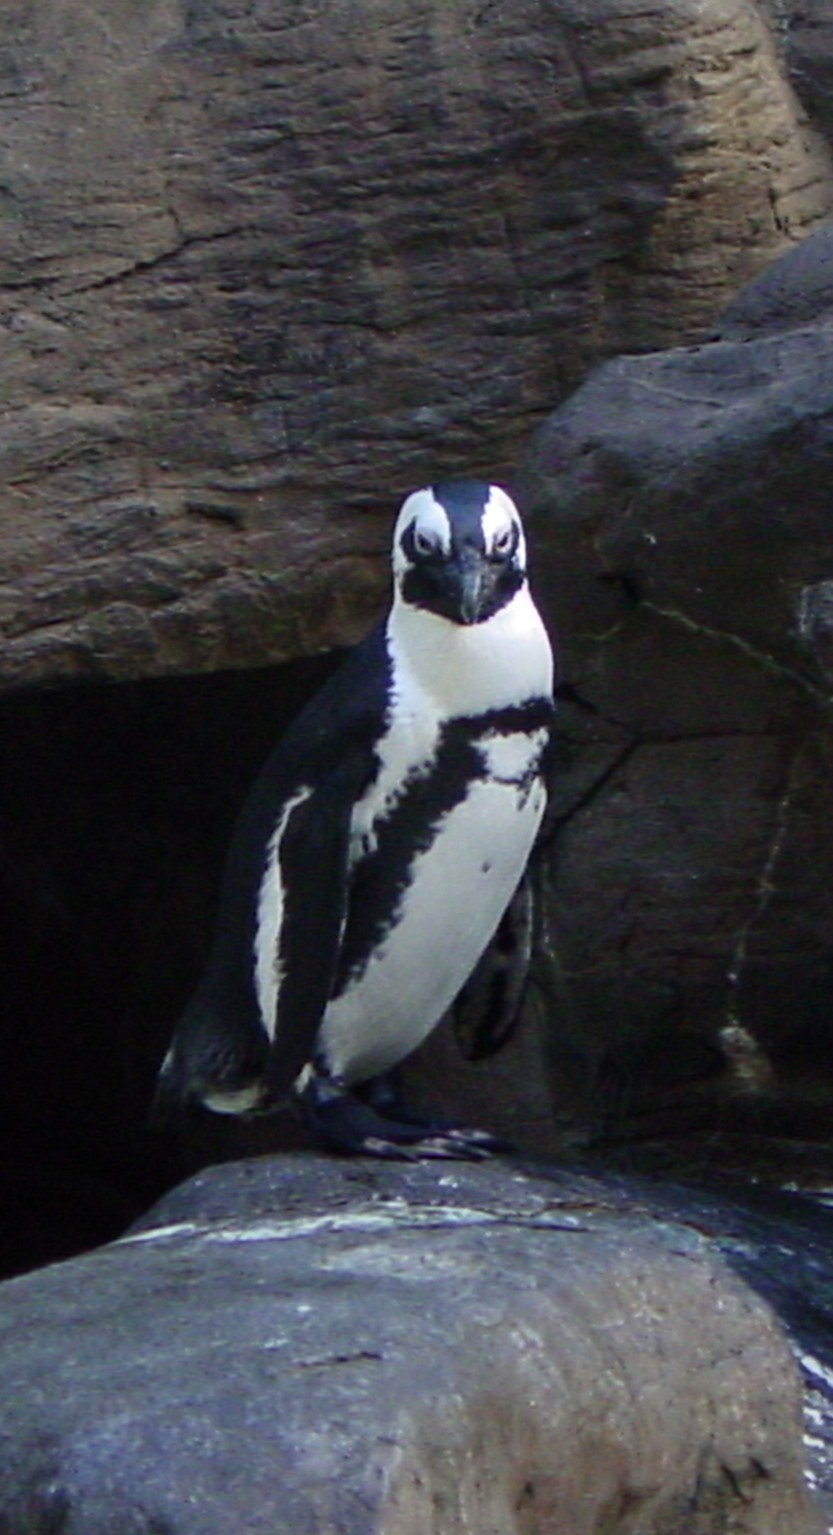penguin: (142, 480, 616, 1167)
